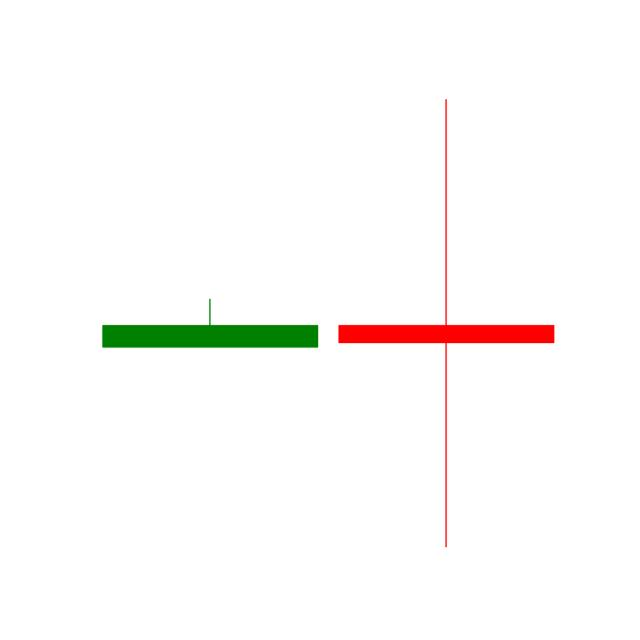Gravenstone Doji: (100, 295, 322, 350)
Long-Legged Doji: (335, 100, 554, 552)
